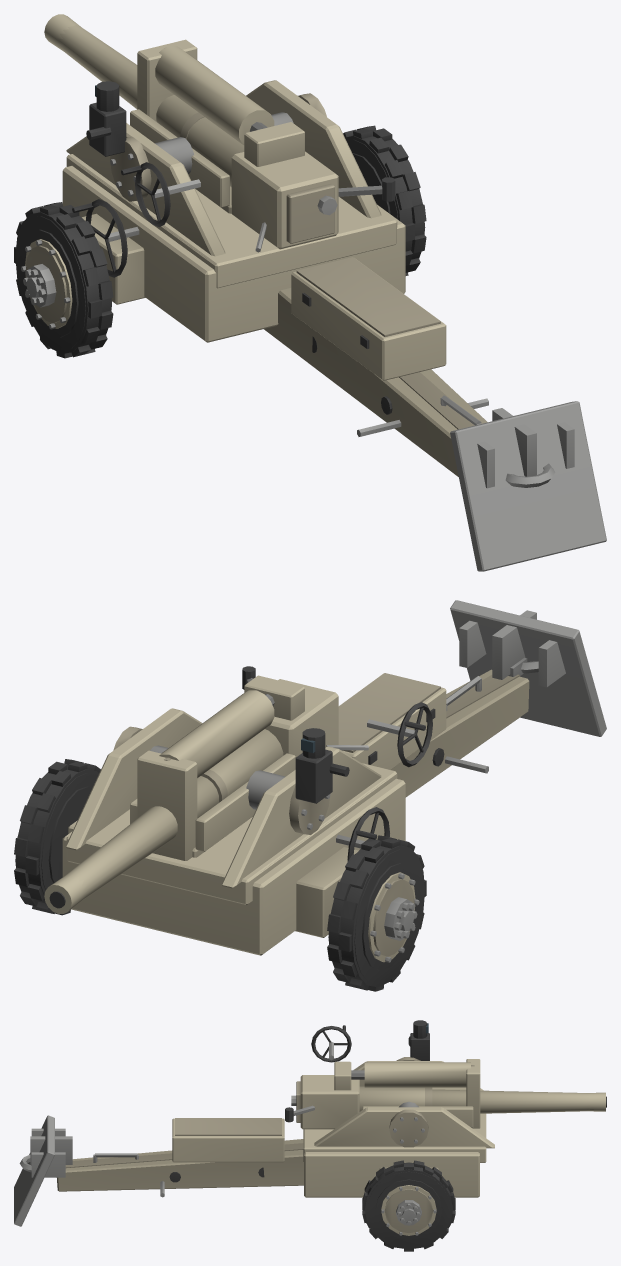
File: mtngun_rus.glb
The picture shows the model from 3 angles, top to bottom: view 1: azimuth 30°, elevation 25°; view 2: azimuth 150°, elevation 25°; view 3: azimuth 270°, elevation 25°; orthographic projection. The views are drawn at different scales.
Visible parts, largest first — view 1: body, barrel, turret, wheel_0, wheel_1; view 2: body, barrel, turret, wheel_0, wheel_1; view 3: body, barrel, turret, wheel_1.
Boxes of the visible parts, bbox=[...] form: body: bbox=[62, 166, 606, 571]; barrel: bbox=[44, 14, 395, 252]; turret: bbox=[66, 80, 397, 288]; wheel_0: bbox=[14, 202, 113, 358]; wheel_1: bbox=[343, 125, 426, 275]; body: bbox=[62, 600, 606, 955]; barrel: bbox=[44, 666, 368, 913]; turret: bbox=[66, 702, 432, 904]; wheel_0: bbox=[327, 835, 426, 991]; wheel_1: bbox=[14, 759, 100, 915]; body: bbox=[14, 1115, 479, 1226]; barrel: bbox=[285, 1059, 606, 1129]; turret: bbox=[303, 1020, 494, 1162]; wheel_1: bbox=[362, 1160, 455, 1251].
Bounding box in the file's own units: 1.88 × 1.21 × 4.21.
